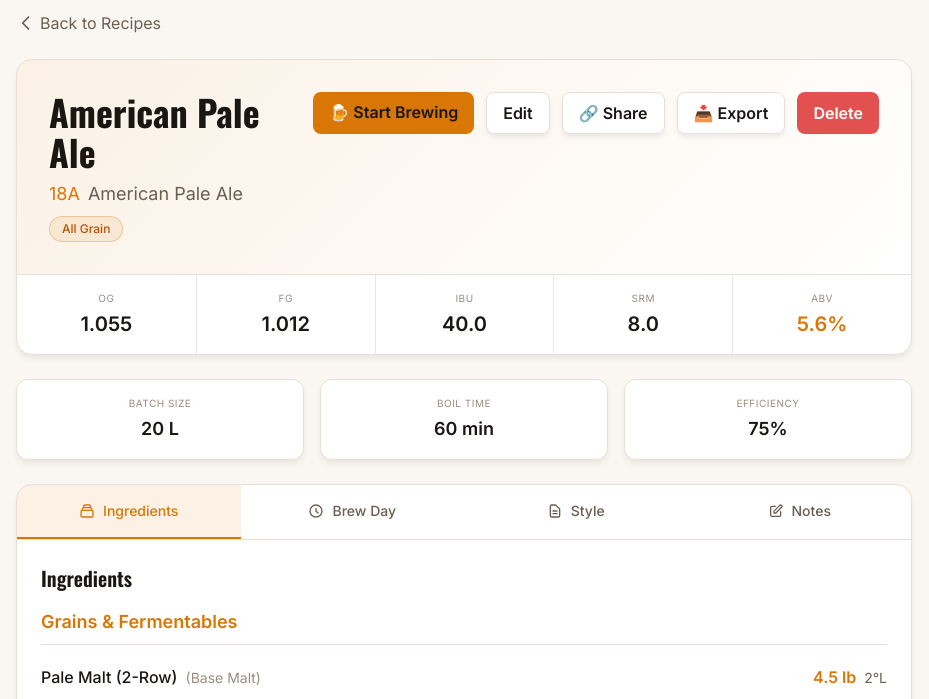
RecipeDetail Page › displays notes
The width and height of the screenshot is (929, 699).
Click the button "Notes": point(799, 512) x1=688 y1=485 x2=911 y2=539
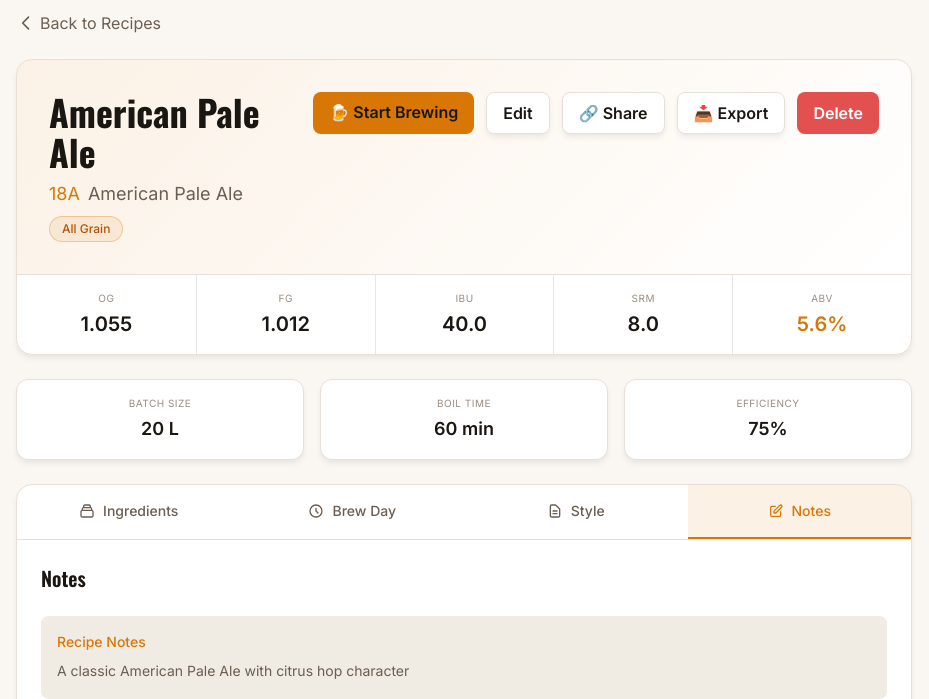
Expected: the heading "Recipe Notes" is shown, x1=57 y1=633 x2=146 y2=650
Expected: the text "A classic American Pale Ale with citrus hop character" is shown, x1=57 y1=662 x2=409 y2=679
